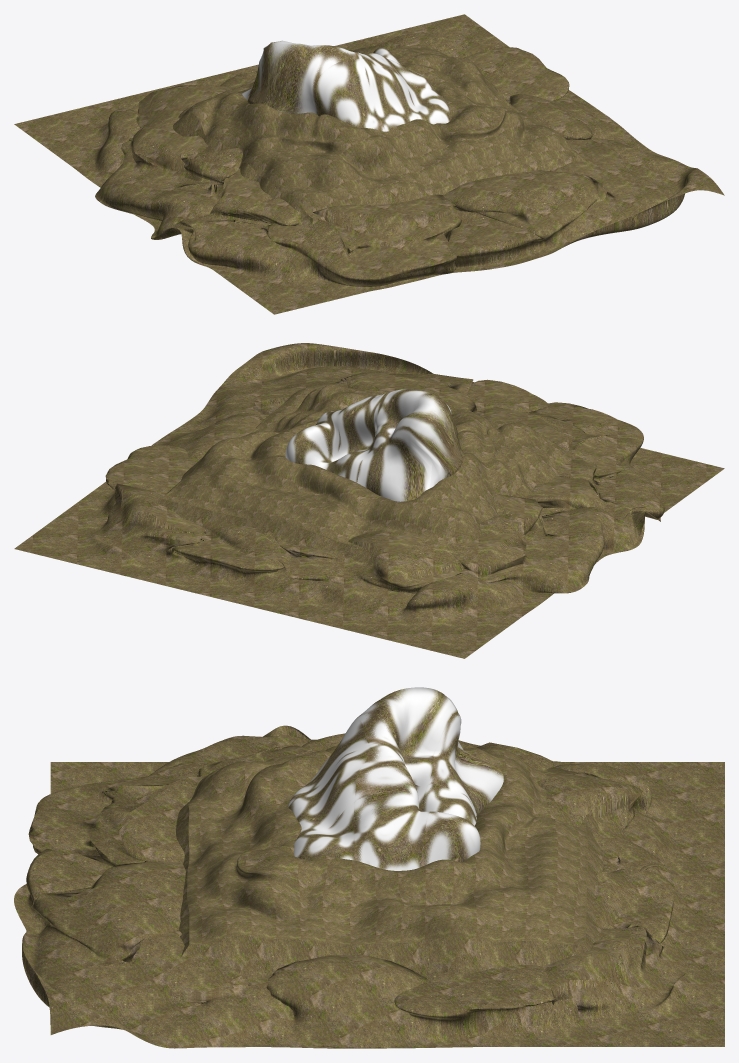
File: mountain new.fbx
3 renders of one model, top to bottom at view 1: azimuth 30°, elevation 25°; view 2: azimuth 150°, elevation 25°; view 3: azimuth 270°, elevation 25°, orthographic. The views are drawn at different scales.
Visible parts, largest first — view 1: pPlane3, pPlane2, pPlane1; view 2: pPlane3, pPlane2, pPlane1; view 3: pPlane3, pPlane2, pPlane1.
Boxes of the visible parts, x1,y1,x2,y2 form: pPlane3: [14, 14, 724, 314]; pPlane2: [173, 42, 587, 224]; pPlane1: [238, 40, 451, 131]; pPlane3: [14, 343, 724, 658]; pPlane2: [156, 385, 582, 562]; pPlane1: [285, 389, 464, 501]; pPlane3: [14, 725, 724, 1048]; pPlane2: [176, 746, 604, 979]; pPlane1: [288, 687, 503, 870].
Size of the model in its own units: 180 by 50.05 by 179.
Materials: 2 (2 with a texture image).
